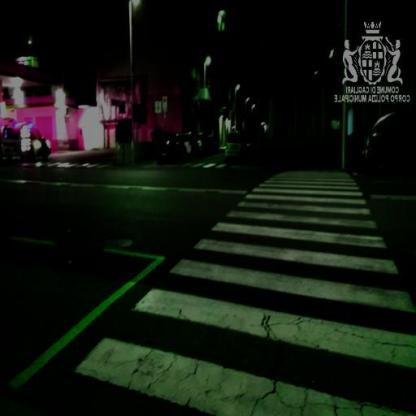crosswalk: (65, 290, 416, 416), (188, 220, 408, 278), (233, 192, 371, 213)
